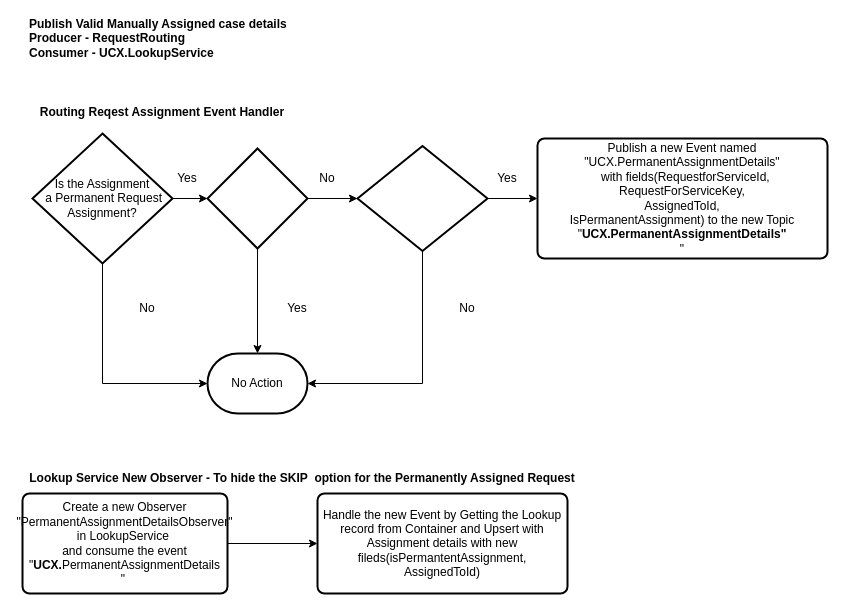
Some shapes in this 846 by 612 pixel diagram are drawn without their labels. The shapes that lost their labels are listed below. From the top down, each one's box as (x1, y1, x2, y2) in pixels, then its label:
(206, 147, 308, 249): is the ReplayVersion true?
(356, 144, 488, 252): is the Event new? (Utilize AuditLog Container)
